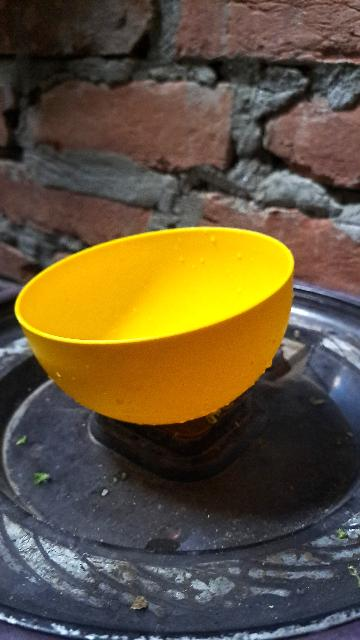hardplastic: (19, 224, 312, 429)
